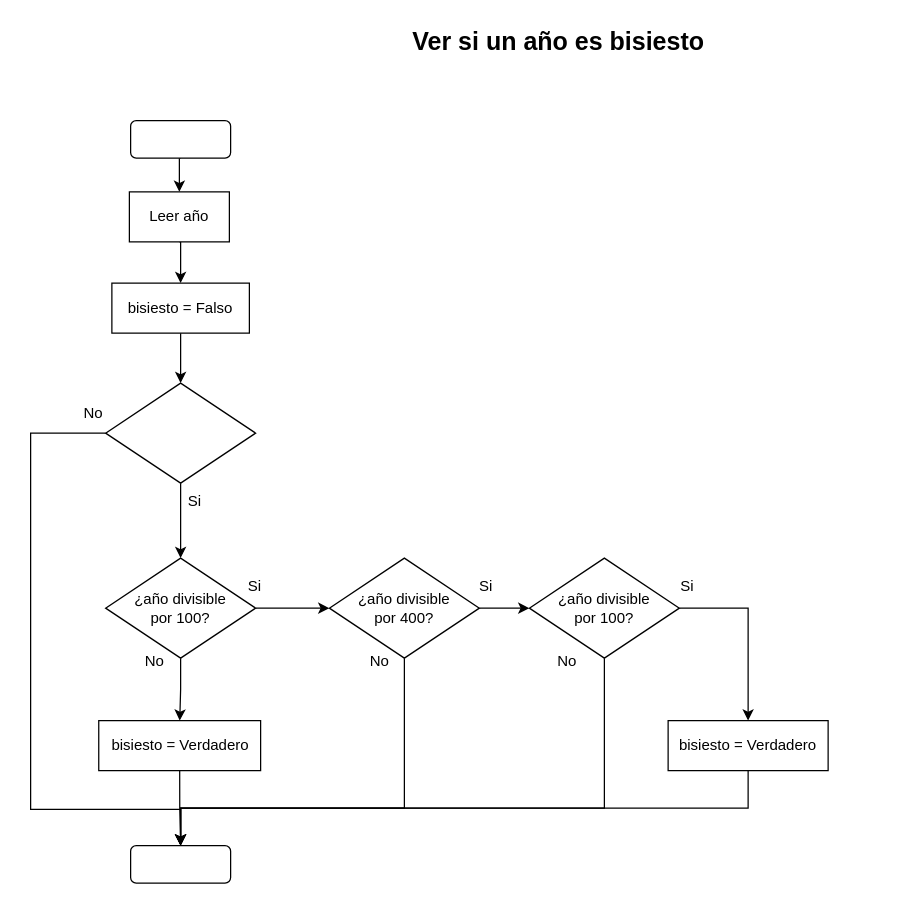
This 909x905 diagram has some shape labels left out. Here are the shapes that lost their labels. From the top down, the centre of each, then its label:
point 180,138: Inicio
point 180,432: ¿año divisible por 4?
point 180,863: Fin
